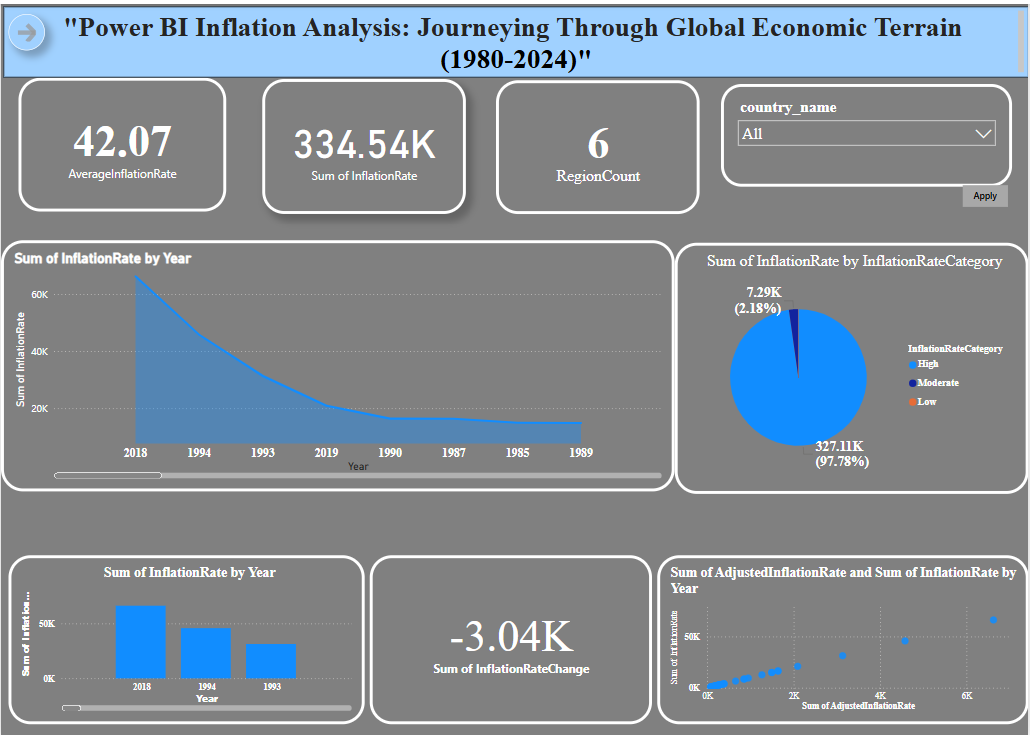

The page's visual inventory and layout, read from the dashboard file:
{"tool":"powerbi","page":{"name":"Dashboard","canvas":[1400,1000],"ordinal":0},"visuals":[{"type":"card","fields":{"Values":["global_inflation_data.AverageInflationRate"]},"box":[23.9,100.5,282.9,182.3],"z":0,"group":"g1"},{"type":"areaChart","fields":{"Category":["global_inflation_data.Year"],"Y":["Sum(global_inflation_data.InflationRate)"]},"box":[0,322.1,918.5,342.5],"z":0},{"type":"card","fields":{"Values":["Sum(global_inflation_data.InflationRate)"]},"box":[356.5,102,277.8,184.1],"z":1000,"group":"g1"},{"type":"pieChart","fields":{"Category":["global_inflation_data.InflationRateCategory"],"Y":["Sum(global_inflation_data.InflationRate)"]},"box":[917.7,325.5,482.3,342.5],"z":1000},{"type":"card","fields":{"Values":["All.RegionCount"]},"box":[675.1,103.7,277.8,182.3],"z":2000,"group":"g1"},{"type":"card","fields":{"Values":["Sum(global_inflation_data.InflationRateChange)"]},"box":[502.7,751.5,385.1,230.1],"z":2000},{"type":"clusteredColumnChart","fields":{"Y":["Sum(global_inflation_data.InflationRate)"],"Category":["global_inflation_data.Year"]},"box":[10.2,751.5,485.7,230.1],"z":3000},{"type":"scatterChart","fields":{"Y":["Sum(global_inflation_data.InflationRate)"],"Category":["global_inflation_data.Year"],"X":["Sum(global_inflation_data.AdjustedInflationRate)"]},"box":[894.7,751.5,506.1,230.1],"z":4000},{"type":"slicer","fields":{"Values":["global_inflation_data.country_name"]},"box":[981.6,109,397.1,173.8],"z":5000,"group":"g1"},{"type":"group","id":"g1","title":"Group 1","box":[23.9,100.5,1354.8,185.8],"z":5000},{"type":"textbox","box":[3.4,3.4,1397.4,97.1],"z":6000},{"type":"actionButton","box":[10.2,13.6,49.4,49.4],"z":7000}]}

Visuals, with their boxes in screenshot pixels (x1, y1, x2, y2), scaled from the page's 1400x1000 canvas onto the 1030x735 screenshot:
card - global_inflation_data.AverageInflationRate: box=[18, 74, 226, 208]
areaChart - global_inflation_data.Year x Sum(global_inflation_data.InflationRate): box=[0, 237, 676, 488]
card - Sum(global_inflation_data.InflationRate): box=[262, 75, 467, 210]
pieChart - global_inflation_data.InflationRateCategory x Sum(global_inflation_data.InflationRate): box=[675, 239, 1029, 491]
card - All.RegionCount: box=[497, 76, 701, 210]
card - Sum(global_inflation_data.InflationRateChange): box=[370, 552, 653, 721]
clusteredColumnChart - Sum(global_inflation_data.InflationRate) x global_inflation_data.Year: box=[8, 552, 365, 721]
scatterChart - Sum(global_inflation_data.InflationRate) x global_inflation_data.Year: box=[658, 552, 1029, 721]
slicer - global_inflation_data.country_name: box=[722, 80, 1014, 208]
"Group 1" group: box=[18, 74, 1014, 210]
textbox: box=[3, 2, 1029, 74]
actionButton: box=[8, 10, 44, 46]
